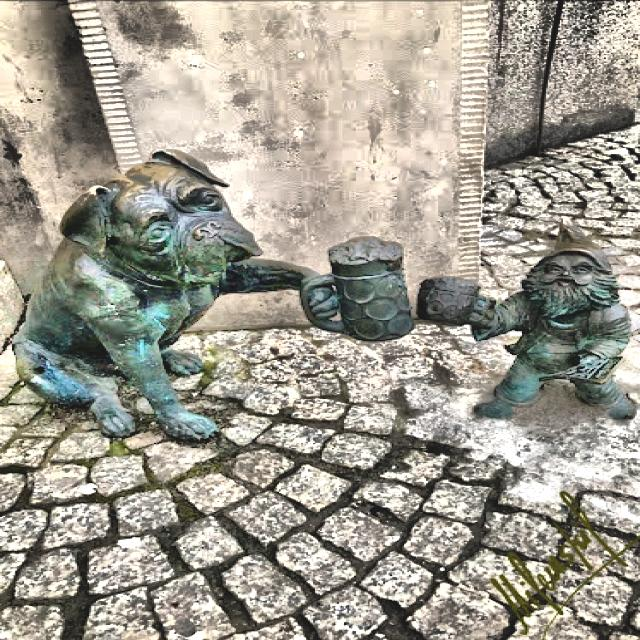Piwozlopek_ i_Piesel_Piwosz: (14, 150, 414, 440), (418, 224, 636, 419)
